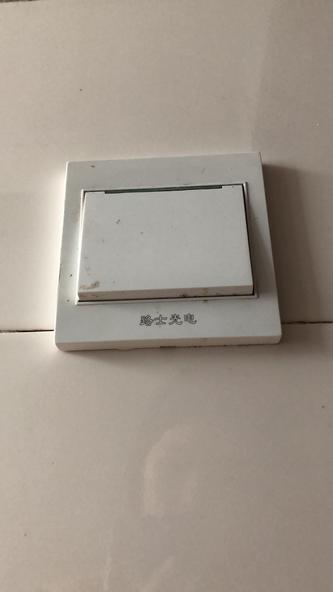switch: (70, 175, 258, 310)
